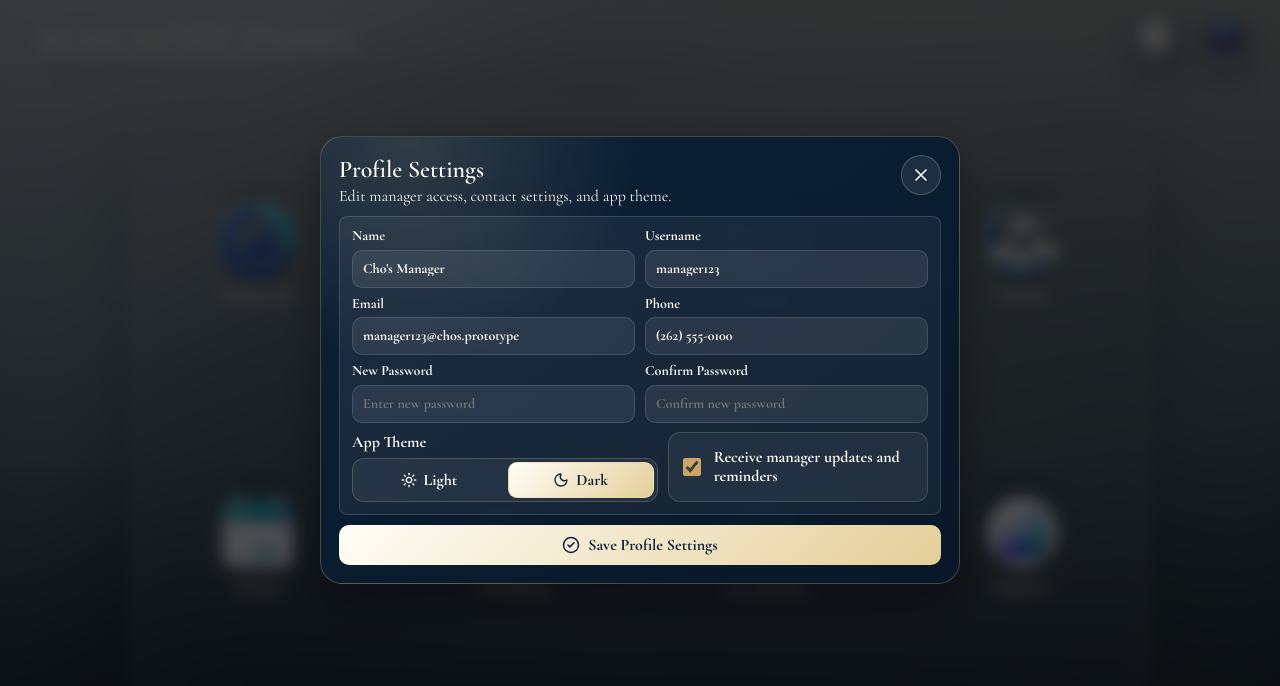
Test: post-login operations app › returns managers to the Profile page when closing profile settings
The width and height of the screenshot is (1280, 686).
Click the button named "Close manager profile settings".
click(921, 175)  # box [901, 155, 941, 195]
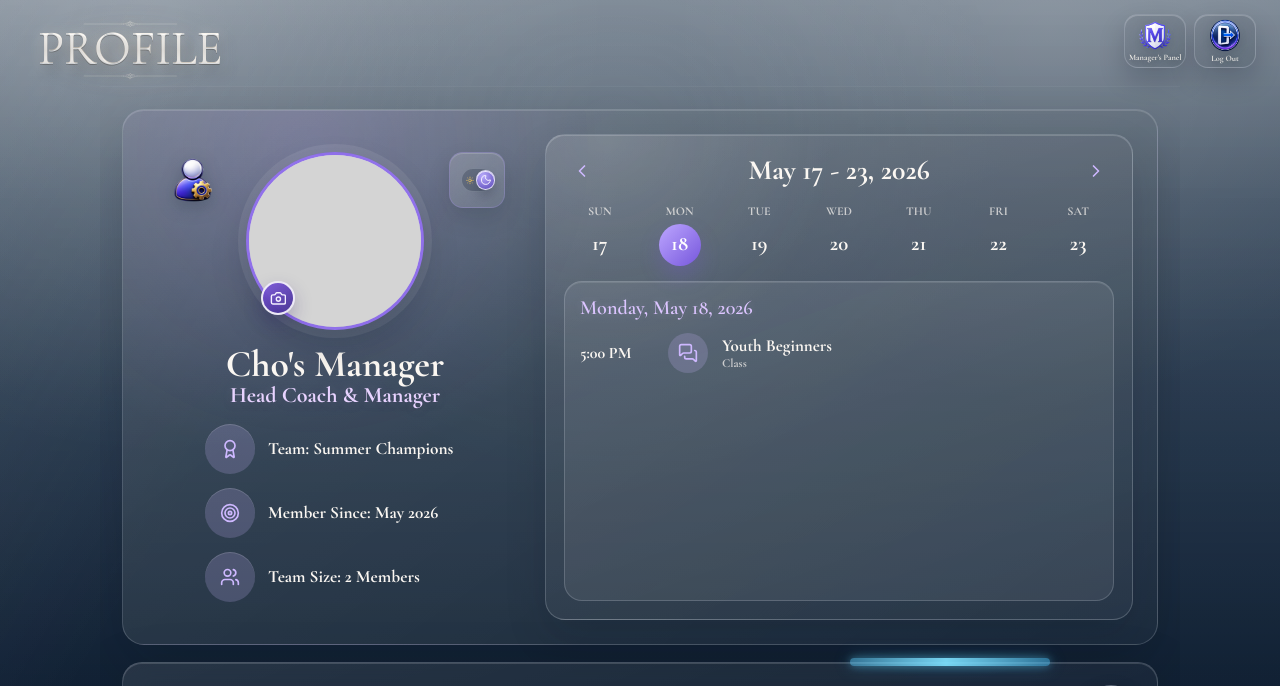
Result: the header named "Profile page header" is shown at [0, 0, 1279, 86]
Result: the heading "MANAGER PANEL" is gone
